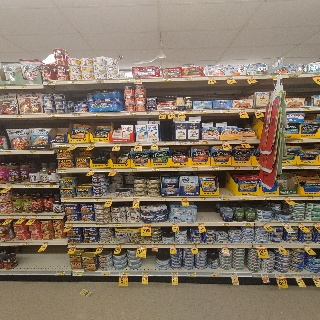All PRICE TAGS: (275, 273, 285, 278), (44, 81, 56, 85), (118, 79, 129, 83), (186, 272, 196, 276), (34, 184, 44, 188), (94, 112, 104, 116), (126, 111, 136, 115), (165, 141, 175, 145), (298, 107, 311, 110), (120, 272, 129, 276), (311, 73, 320, 77), (48, 113, 60, 116), (68, 81, 79, 84), (94, 80, 105, 83), (141, 272, 149, 276), (211, 272, 219, 276), (233, 166, 241, 170), (159, 197, 167, 201), (65, 222, 73, 226), (56, 271, 64, 275), (221, 140, 229, 144), (109, 168, 117, 172), (134, 78, 142, 82), (137, 244, 147, 247), (100, 272, 110, 275), (239, 197, 249, 200), (141, 223, 151, 226), (46, 184, 56, 187), (19, 242, 29, 245), (188, 141, 198, 144), (57, 169, 67, 172), (71, 113, 81, 116), (56, 143, 66, 146), (0, 85, 7, 89), (171, 272, 178, 276), (230, 272, 237, 276), (172, 167, 179, 171), (63, 198, 70, 202), (283, 196, 290, 200), (311, 274, 318, 278), (271, 74, 278, 78), (201, 140, 208, 144), (199, 109, 206, 113), (73, 272, 82, 275), (219, 197, 228, 200), (112, 223, 121, 226), (22, 184, 31, 187), (48, 216, 57, 219), (178, 141, 187, 144), (246, 75, 255, 78), (221, 109, 230, 112), (69, 244, 77, 247), (115, 244, 123, 247), (169, 244, 177, 247), (211, 167, 219, 170), (252, 166, 260, 169), (94, 198, 102, 201), (132, 198, 140, 201), (199, 197, 207, 200), (94, 223, 102, 226), (146, 111, 152, 115), (163, 78, 171, 81), (20, 86, 28, 89), (282, 223, 290, 226), (257, 244, 265, 247), (88, 169, 96, 172), (130, 168, 138, 171), (184, 77, 192, 80), (207, 76, 215, 79), (226, 76, 234, 79), (69, 143, 77, 146), (88, 143, 96, 146), (113, 143, 121, 146), (198, 223, 205, 226), (97, 244, 104, 247), (152, 244, 159, 247), (191, 244, 198, 247), (221, 244, 228, 247), (152, 168, 159, 171), (192, 167, 199, 170), (106, 197, 113, 200), (181, 197, 188, 200), (172, 223, 179, 226), (264, 197, 271, 200), (297, 166, 304, 169), (168, 111, 175, 114), (159, 111, 166, 114), (294, 274, 301, 277), (261, 274, 268, 277), (297, 139, 304, 142), (240, 140, 247, 143), (178, 110, 185, 113), (239, 109, 246, 112), (254, 108, 261, 111), (135, 142, 142, 145), (151, 142, 158, 145), (243, 223, 253, 225), (9, 215, 14, 219), (307, 196, 313, 199), (16, 114, 22, 117), (30, 151, 36, 154), (5, 151, 11, 154), (313, 223, 319, 226), (297, 223, 303, 226), (263, 223, 269, 226), (277, 245, 283, 248), (303, 245, 309, 248), (189, 110, 195, 113), (222, 223, 230, 225), (7, 185, 12, 188), (22, 215, 27, 218), (32, 216, 37, 219), (43, 242, 49, 244), (288, 74, 291, 77), (186, 110, 189, 113)
